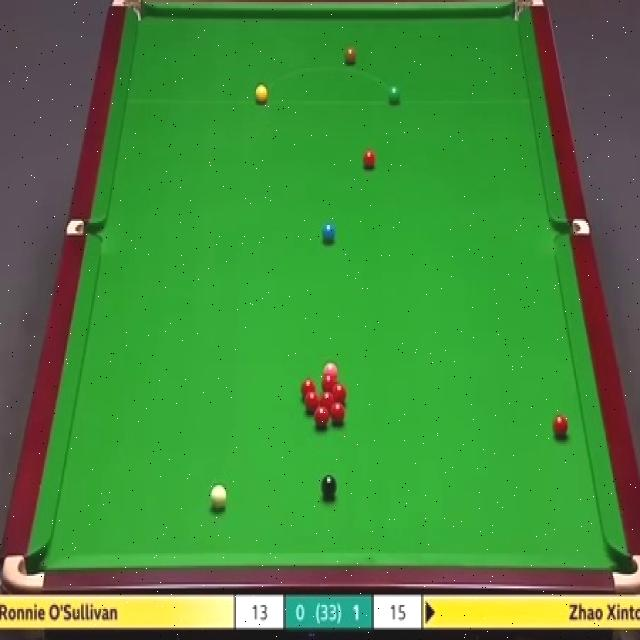black-ball: (321, 474, 336, 498)
blue-ball: (322, 223, 336, 242)
brown-ball: (344, 47, 356, 65)
green-ball: (386, 83, 401, 105)
pink-ball: (323, 361, 338, 377)
red-ball: (552, 414, 568, 438), (314, 407, 329, 429), (300, 378, 315, 400), (304, 392, 318, 414), (362, 150, 376, 171), (320, 394, 335, 413), (324, 374, 339, 392), (332, 404, 344, 423), (333, 384, 344, 402)
white-ball: (209, 484, 228, 508)
yellow-ball: (254, 84, 268, 104)
